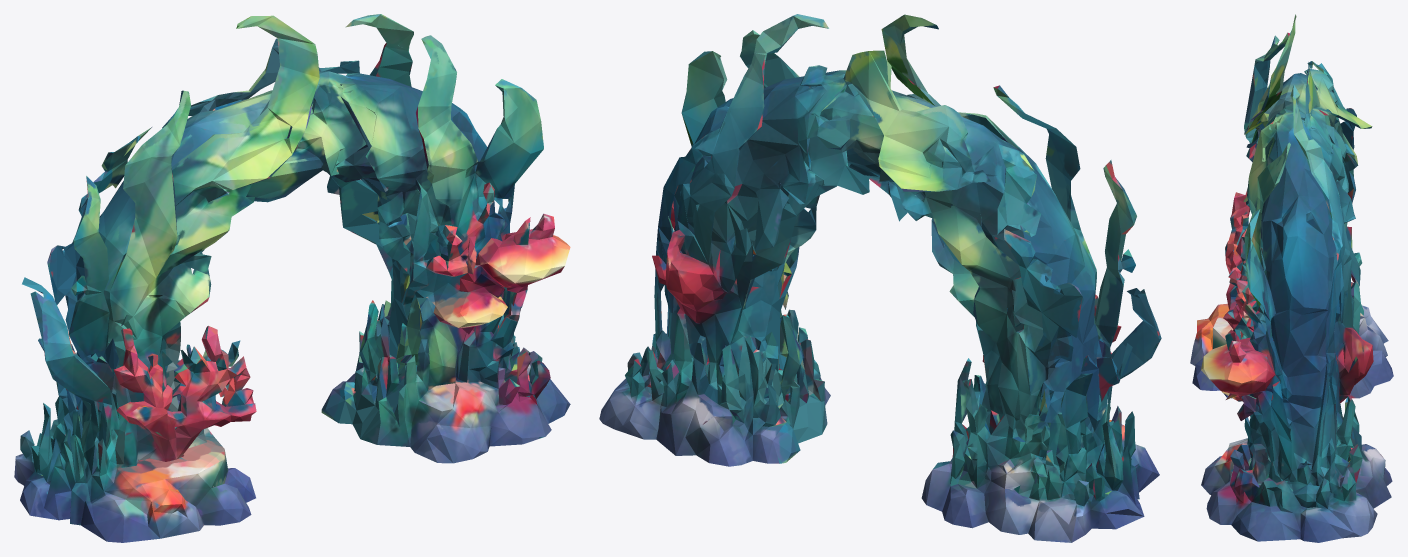
Rendered from sea_kelp_arch_1117.glb.
3 views of the same model, side by side, from view 1: azimuth 30°, elevation 25°; view 2: azimuth 150°, elevation 25°; view 3: azimuth 270°, elevation 25° (orthographic). The views are drawn at different scales.
Parts seen in each view (by area): view 1: tmphcs79_n4.ply; view 2: tmphcs79_n4.ply; view 3: tmphcs79_n4.ply.
Boxes of the visible parts, bbox=[...] form: tmphcs79_n4.ply: bbox=[14, 14, 570, 542]; tmphcs79_n4.ply: bbox=[599, 14, 1161, 542]; tmphcs79_n4.ply: bbox=[1190, 14, 1393, 542].
Size of the model in its own units: 1.99 by 1.63 by 0.7557.
1 material, 1 textured.
